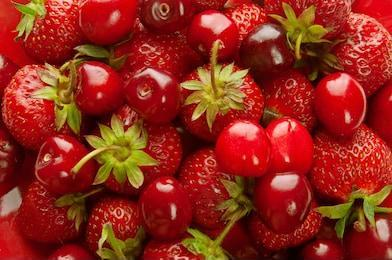Fresa: (90, 104, 184, 193), (1, 62, 80, 154), (182, 60, 265, 141), (314, 122, 392, 208), (316, 10, 392, 96), (84, 192, 145, 260), (18, 1, 82, 62)
